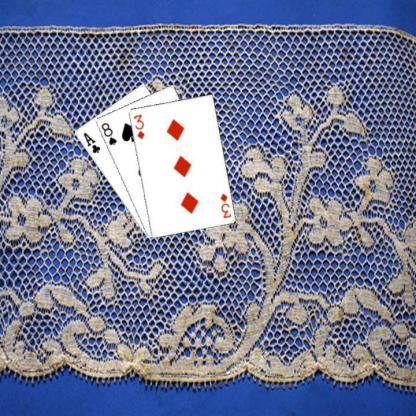3D: (130, 112, 146, 140), (218, 191, 232, 219)
8S: (98, 120, 118, 146)
AC: (80, 130, 102, 154)
